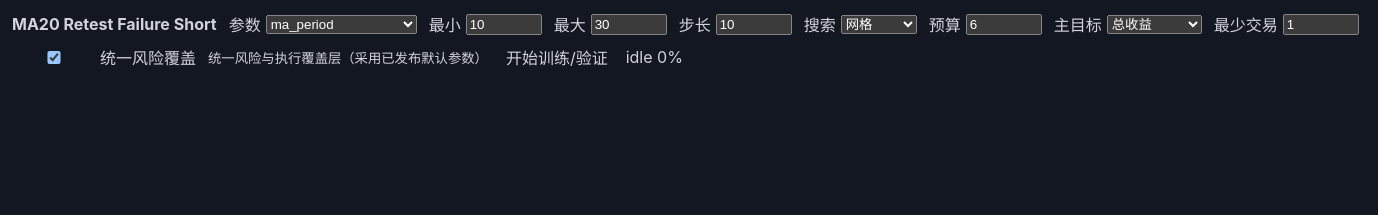
Test: OptimizationPanel › submits ordered train and validation ranges and compares results
Click the button "开始训练/验证": (557, 57) [500,44,614,70]
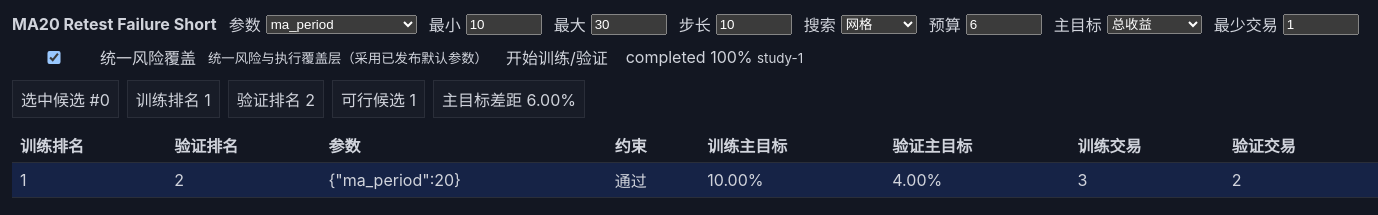
expect the element with class "stability-summary" shows "验证排名 2": met, box [237,90,315,110]
expect the table with class "optimization-table" shows "10.00%": met, box [707,170,764,190]
expect the table with class "optimization-table" shows "4.00%": met, box [892,170,942,190]
